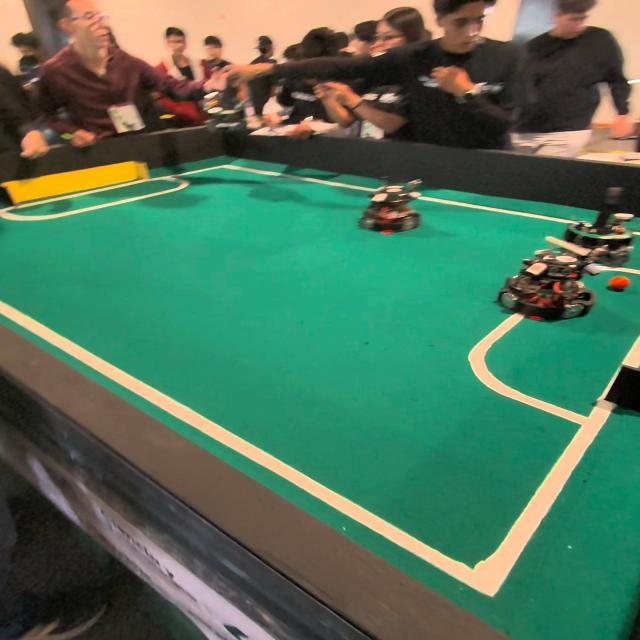Robot: (501, 236, 594, 324), (567, 189, 631, 256), (360, 177, 422, 233)
pelota: (604, 274, 632, 291)
